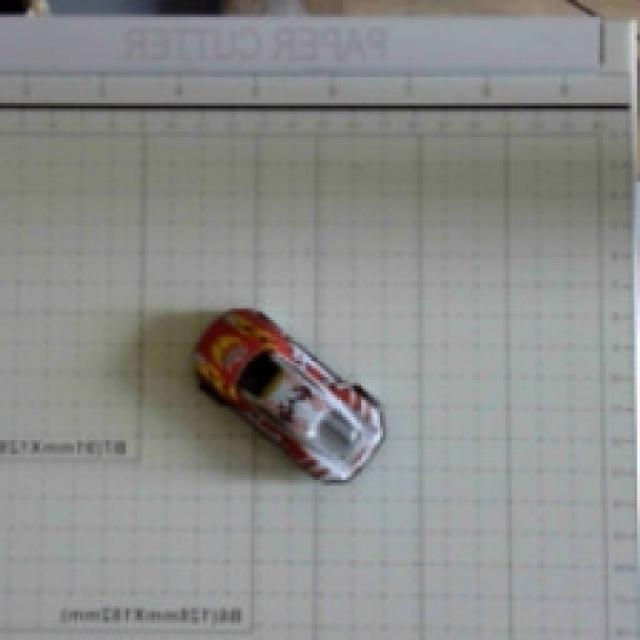Red Car: (153, 277, 400, 504)
